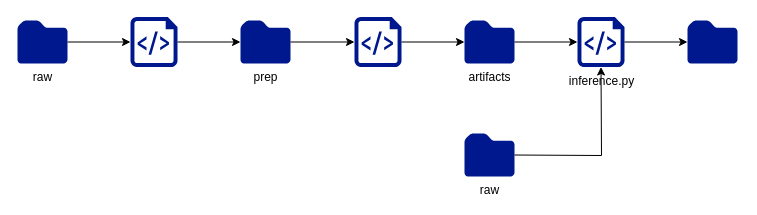
This 757x215 diagram has some shape labels left out. Each missing label, with the centre of its shape:
inferences: (x=712, y=41)
prep.py: (x=153, y=41)
train.py: (x=377, y=41)
